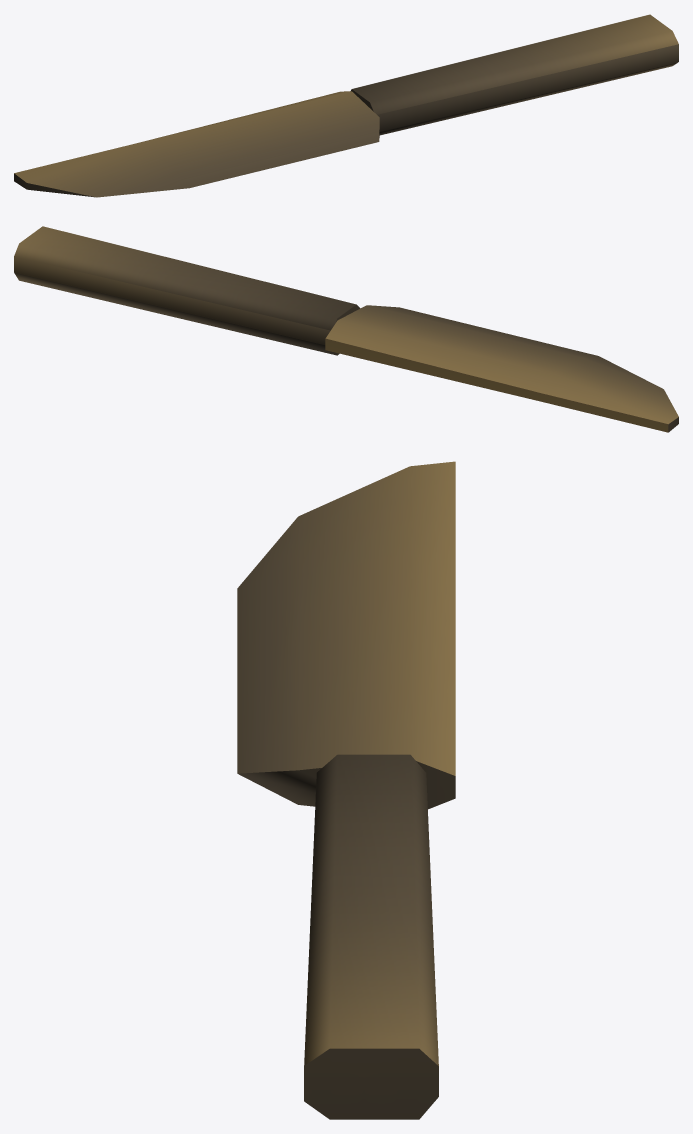
The model's file is knife_cuttlery_wood.fbx.
The picture shows the model from 3 angles, top to bottom: view 1: azimuth 30°, elevation 25°; view 2: azimuth 150°, elevation 25°; view 3: azimuth 270°, elevation 25°; orthographic projection. The views are drawn at different scales.
Visible parts, largest first — view 1: knife_cuttlery_wood; view 2: knife_cuttlery_wood; view 3: knife_cuttlery_wood.
Part boxes in pixels (x1,y1,x2,y2): knife_cuttlery_wood: (14, 14, 678, 197); knife_cuttlery_wood: (14, 226, 678, 432); knife_cuttlery_wood: (237, 461, 455, 1119).
Size of the model in its own units: 43.25 by 2.35 by 6.53.
